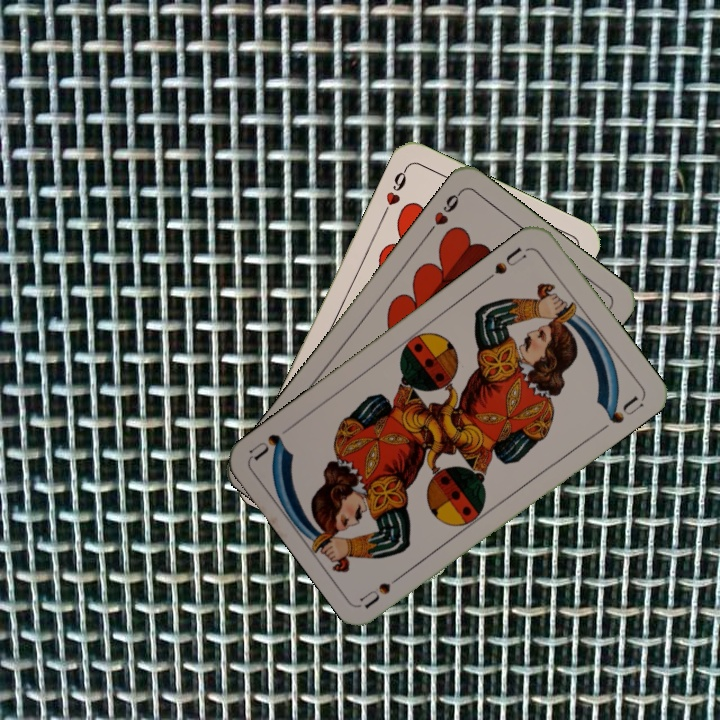H9: (423, 187, 465, 237), (378, 163, 410, 219)
SU: (357, 566, 411, 610), (481, 243, 532, 285)
